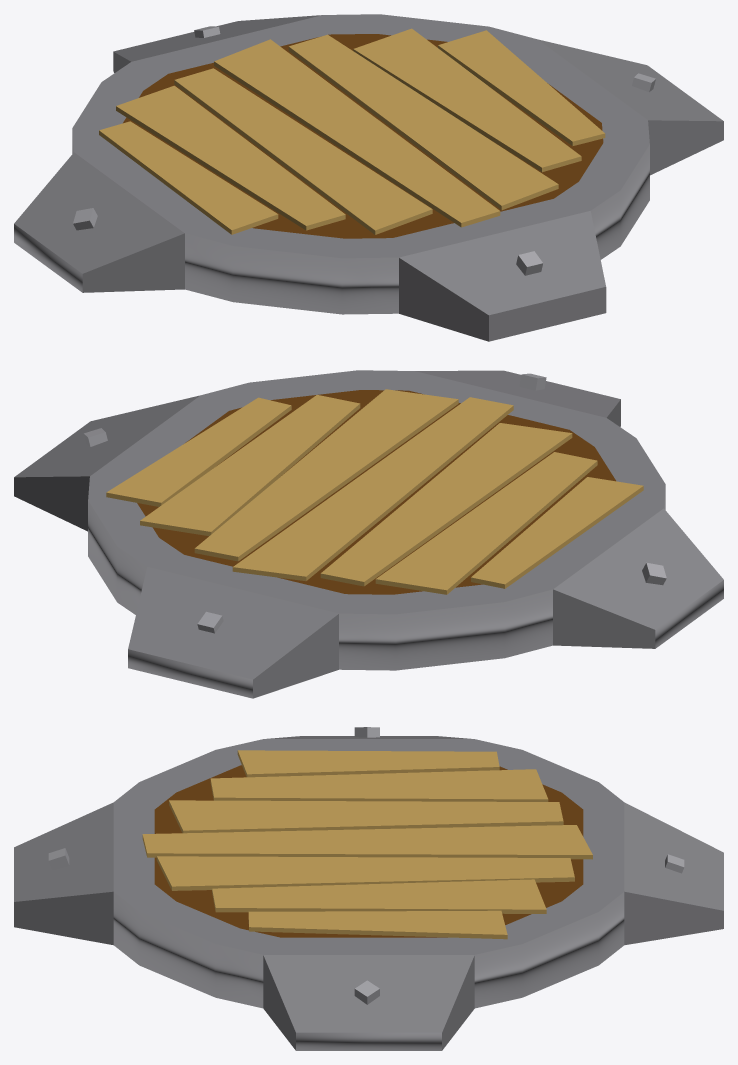
The model's file is Trigger_Fantasy.fbx.
The picture shows the model from 3 angles, top to bottom: view 1: azimuth 30°, elevation 25°; view 2: azimuth 150°, elevation 25°; view 3: azimuth 270°, elevation 25°; orthographic projection. The views are drawn at different scales.
Visible parts, largest first — view 1: Trigger Fantasy; view 2: Trigger Fantasy; view 3: Trigger Fantasy.
Boxes of the visible parts, x1,y1,x2,y2 form: Trigger Fantasy: (14,14,723,341); Trigger Fantasy: (14,370,723,698); Trigger Fantasy: (14,727,723,1050).
Bounding box in the file's own units: 254 × 23.16 × 257.
